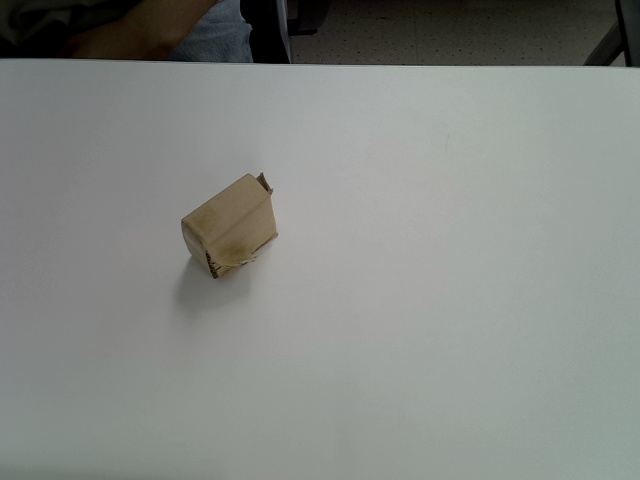defect: (180, 172, 279, 280)
